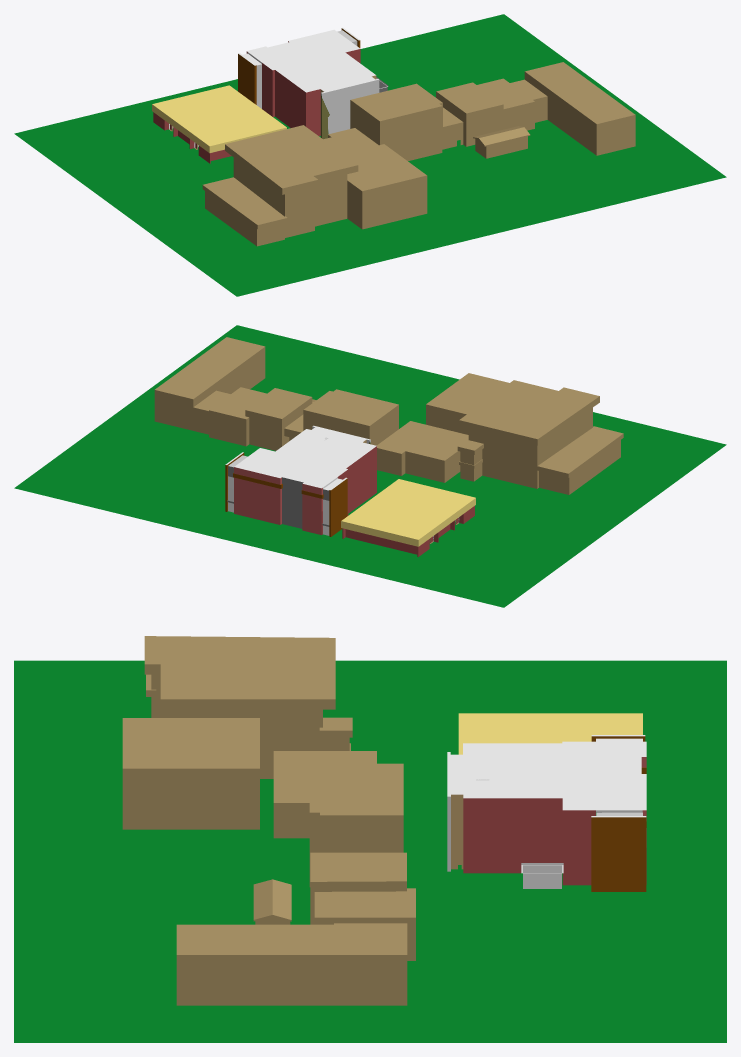
3 renders of one model, top to bottom at view 1: azimuth 30°, elevation 25°; view 2: azimuth 150°, elevation 25°; view 3: azimuth 270°, elevation 25°, orthographic. The views are drawn at different scales.
Parts seen in each view (by area): view 1: Cube.003, Cube.005, Cube, Cube.004, Cube.002; view 2: Cube.003, Cube.005, Cube, Cube.004; view 3: Cube.003, Cube.005, Cube, Cube.004, Cube.002, Cube.001.
Boxes of the visible parts, x1,y1,x2,y2 form: Cube.003: [14, 14, 726, 296]; Cube.005: [202, 62, 635, 246]; Cube: [238, 27, 379, 139]; Cube.004: [152, 85, 286, 163]; Cube.002: [473, 126, 530, 158]; Cube.003: [14, 325, 726, 607]; Cube.005: [154, 337, 623, 494]; Cube: [225, 425, 376, 536]; Cube.004: [341, 479, 475, 556]; Cube.003: [14, 660, 726, 1042]; Cube.005: [122, 636, 415, 1005]; Cube: [447, 735, 646, 891]; Cube.004: [458, 713, 642, 754]; Cube.002: [253, 879, 291, 924]; Cube.001: [521, 863, 563, 888].
Bounding box in the file's own units: 251 × 28.12 × 198.
Materials: 2 (2 with a texture image).
